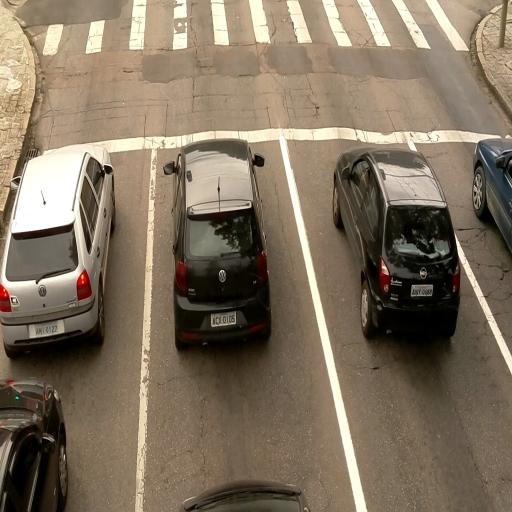car: (331, 143, 461, 341), (0, 143, 116, 354), (164, 136, 271, 349), (0, 379, 69, 512), (471, 135, 512, 275), (177, 478, 308, 510)
